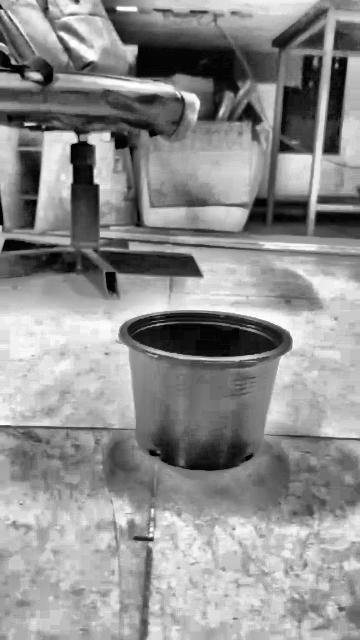pot: (119, 311, 290, 471)
